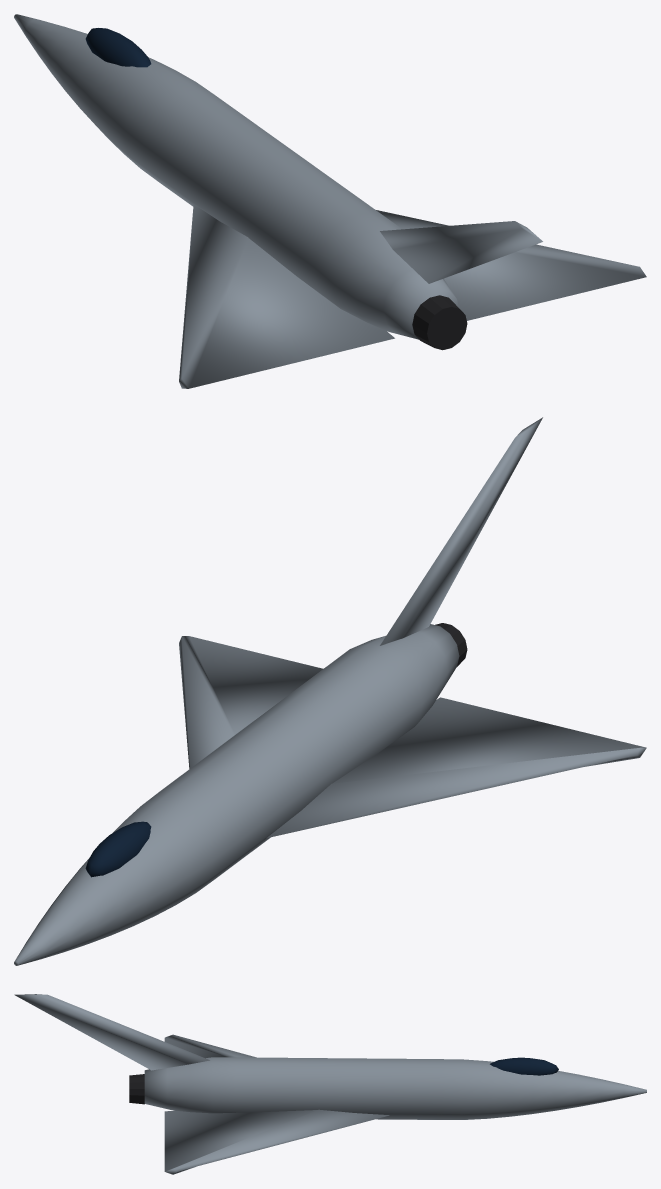
The model's file is mirage2000.obj.
3 renders of one model, top to bottom at view 1: azimuth 30°, elevation 25°; view 2: azimuth 150°, elevation 25°; view 3: azimuth 270°, elevation 25°, orthographic. The views are drawn at different scales.
Visible parts, largest first — view 1: Body, Detail, Canopy; view 2: Body, Canopy; view 3: Body, Canopy, Detail.
Boxes of the visible parts, x1,y1,x2,y2 form: Body: (14,14,646,388); Detail: (412,295,467,350); Canopy: (85,28,151,67); Body: (14,417,646,965); Canopy: (85,821,151,877); Body: (14,994,646,1174); Canopy: (490,1057,558,1075); Detail: (129,1074,144,1104).
Bounding box in the file's own units: 9.1 × 3.87 × 18.14.
